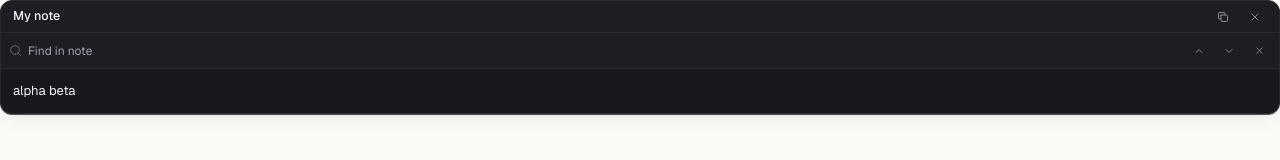
Test: NoteNode › searches a resting note too
The image size is (1280, 160).
In the field labelled "Find in note": (580, 50) [28,42,1133,60], type "beta"
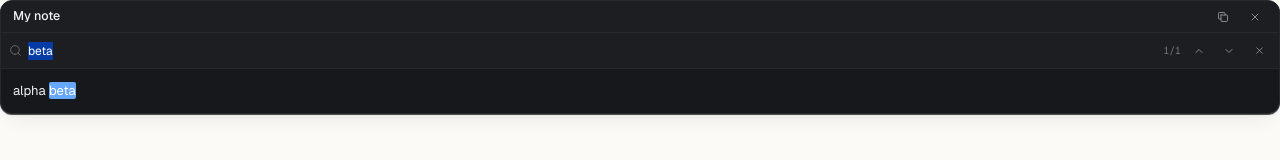
Expected: the text with class "cm-md-search-active" reads "beta", [49,82,76,99]
Now the text "1/1" is shown, box [1163,43,1181,57]
